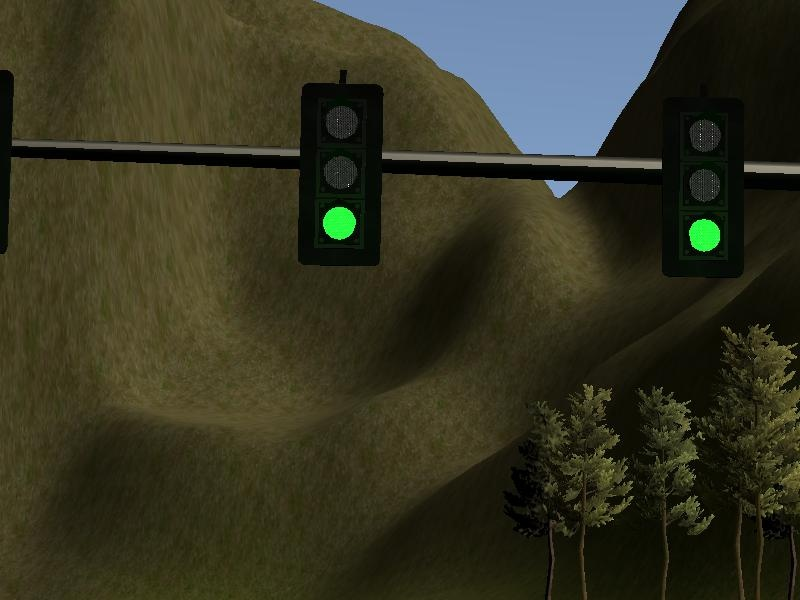traffic_light_green: (1, 60, 764, 284)
